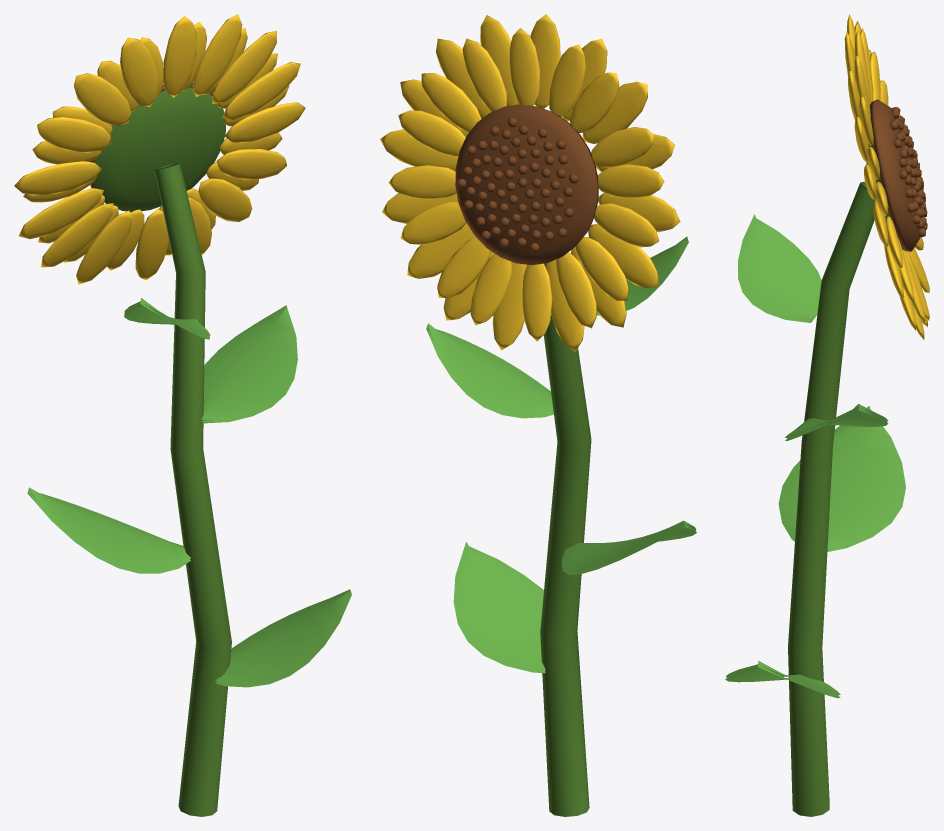
The model's file is HoneySunflower.obj.
3 renders of one model, left to right at view 1: azimuth 30°, elevation 25°; view 2: azimuth 150°, elevation 25°; view 3: azimuth 270°, elevation 25°, orthographic. The views are drawn at different scales.
Visible parts, largest first — view 1: SunPetals, Stem, SunLeaves; view 2: SunPetals, SeedHead, SunLeaves, Stem; view 3: Stem, SunLeaves, SunPetals, SeedHead.
Boxes of the visible parts, <box> form: SunPetals: <box>14,14,305,284</box>; Stem: <box>94,87,231,816</box>; SunLeaves: <box>27,298,351,687</box>; SunPetals: <box>380,14,680,351</box>; SeedHead: <box>455,104,598,265</box>; SunLeaves: <box>426,236,696,673</box>; Stem: <box>540,152,597,816</box>; Stem: <box>788,143,889,816</box>; SunLeaves: <box>725,214,905,698</box>; SunPetals: <box>844,14,929,339</box>; SeedHead: <box>869,99,927,251</box>.
Bounding box in the file's own units: 5.5 × 14.09 × 3.36.
